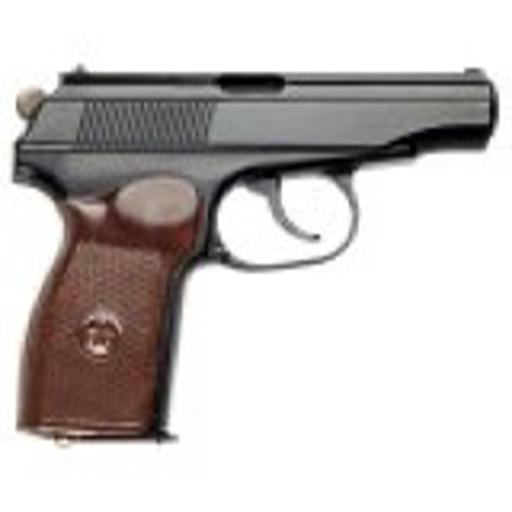Handgun: (8, 58, 498, 451)
